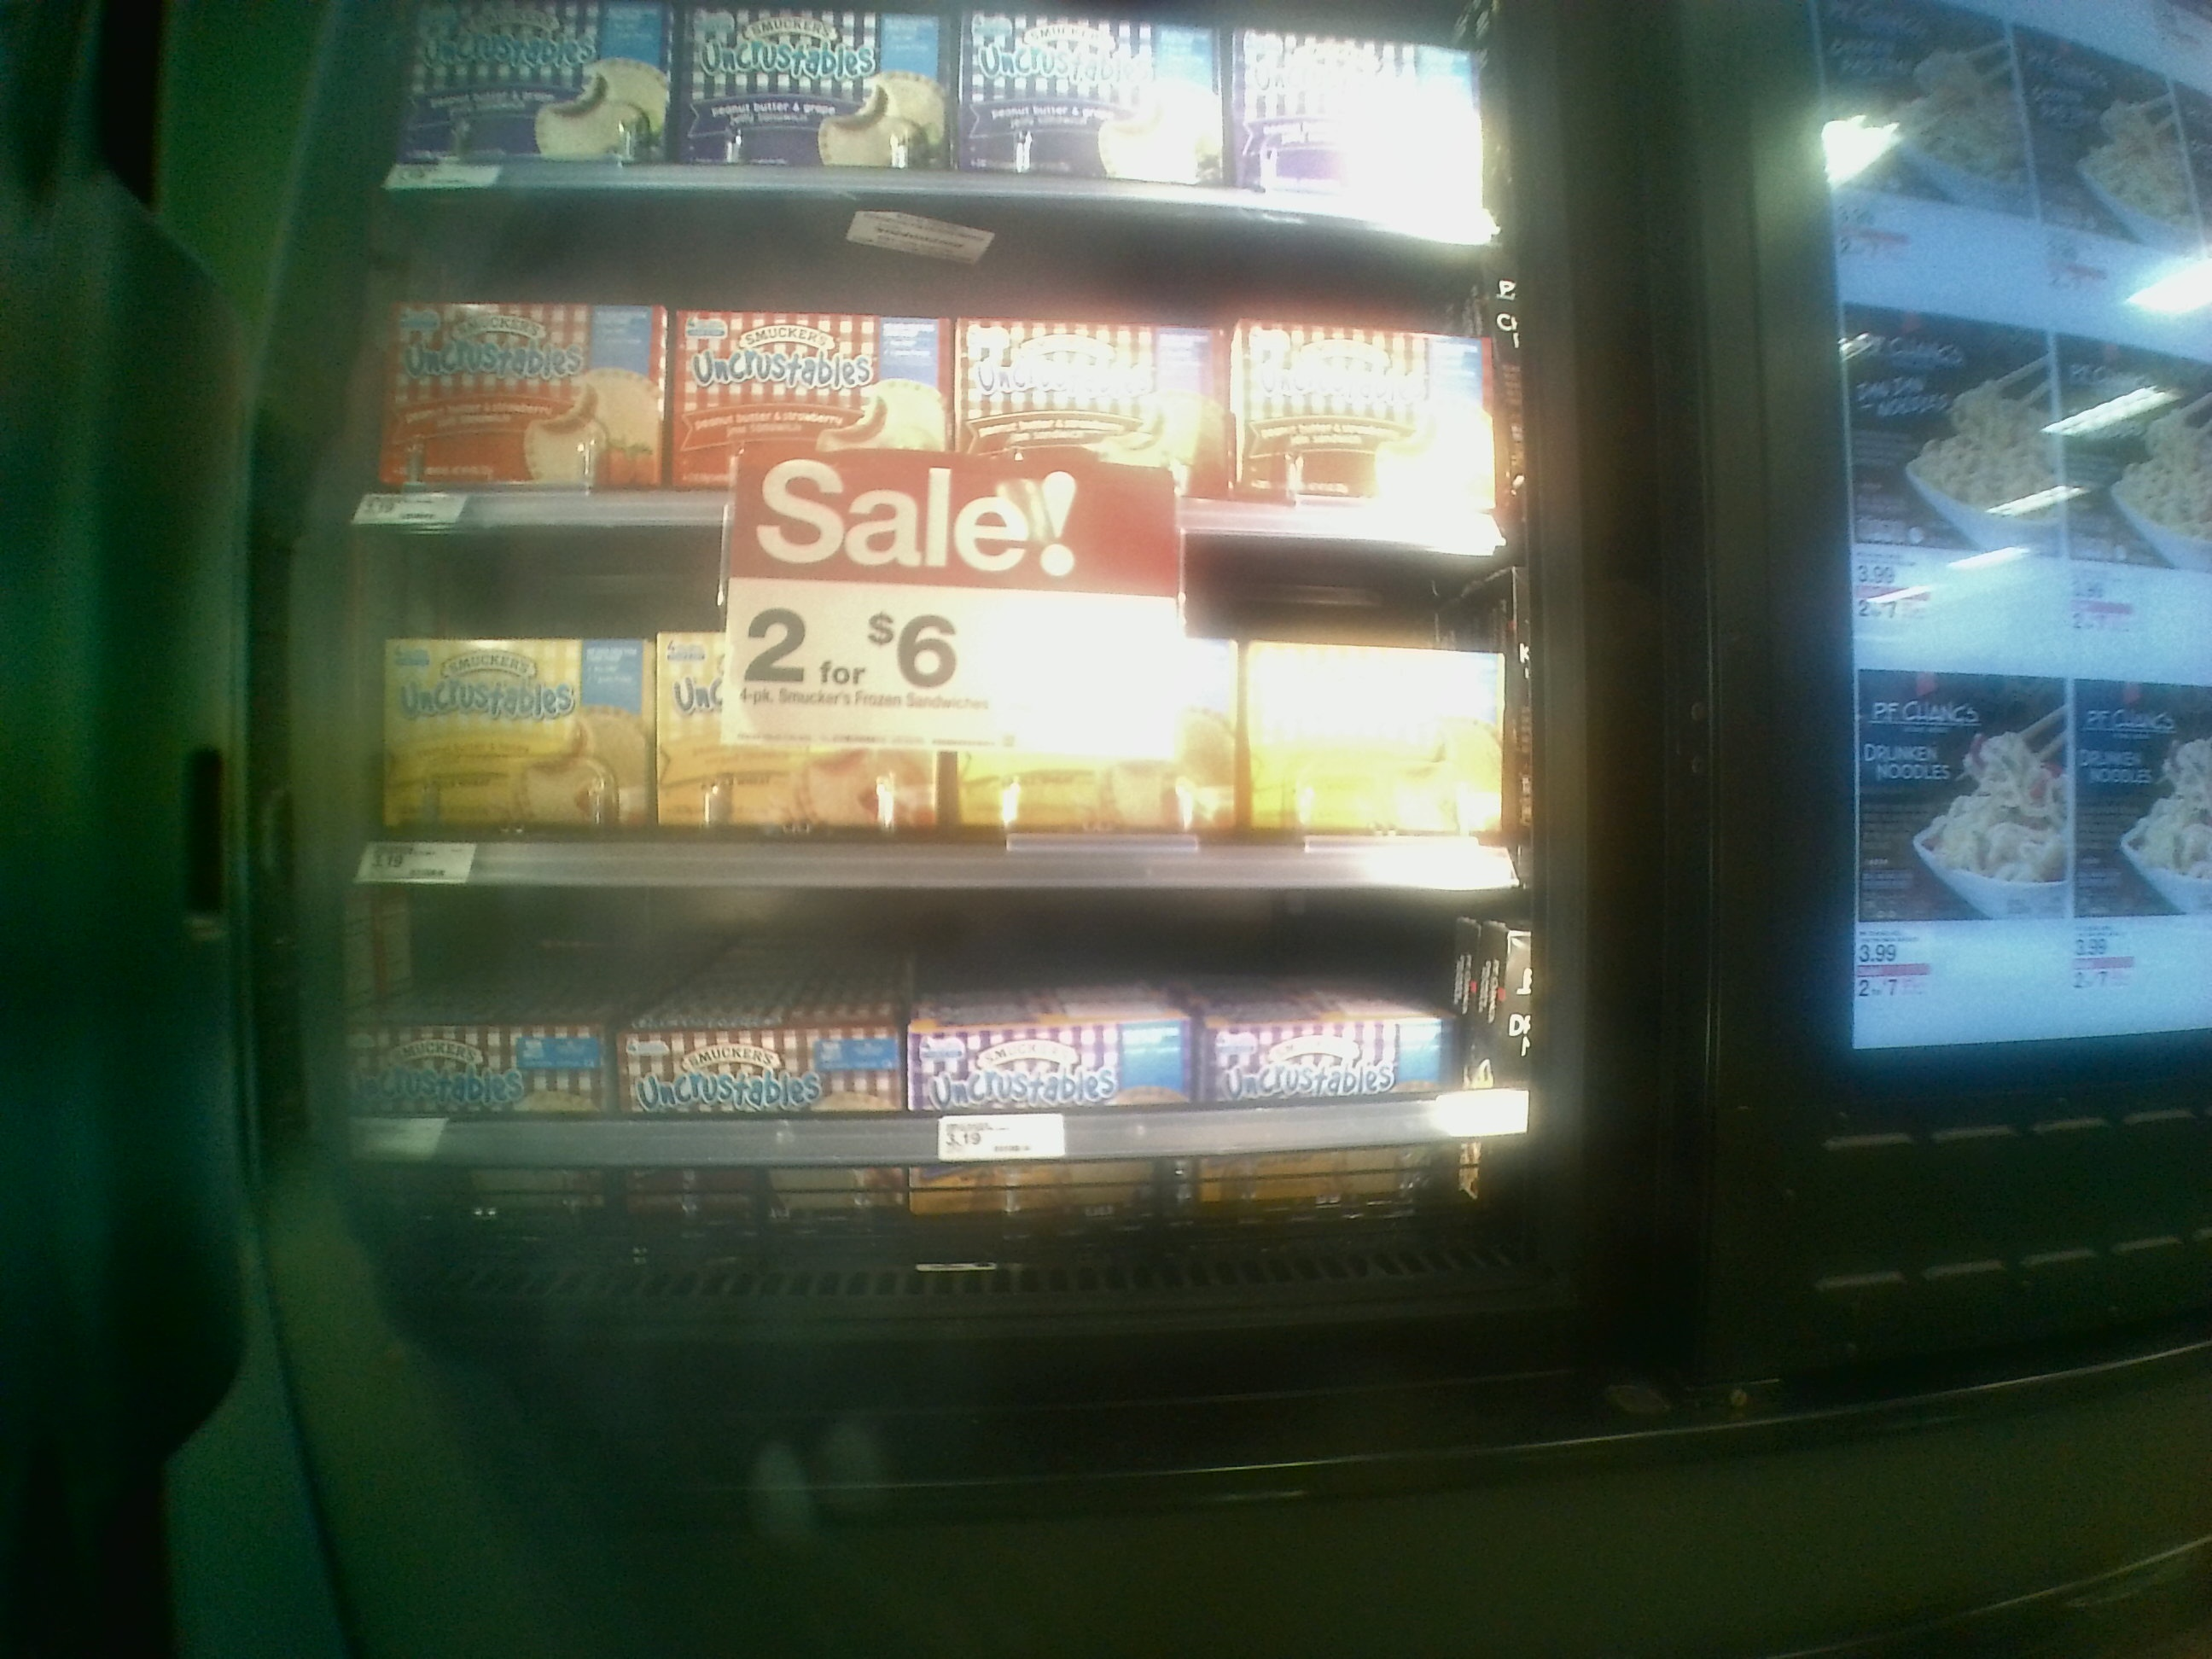shelf: (294, 873, 1550, 1349), (354, 167, 1507, 559), (314, 537, 1540, 894)
